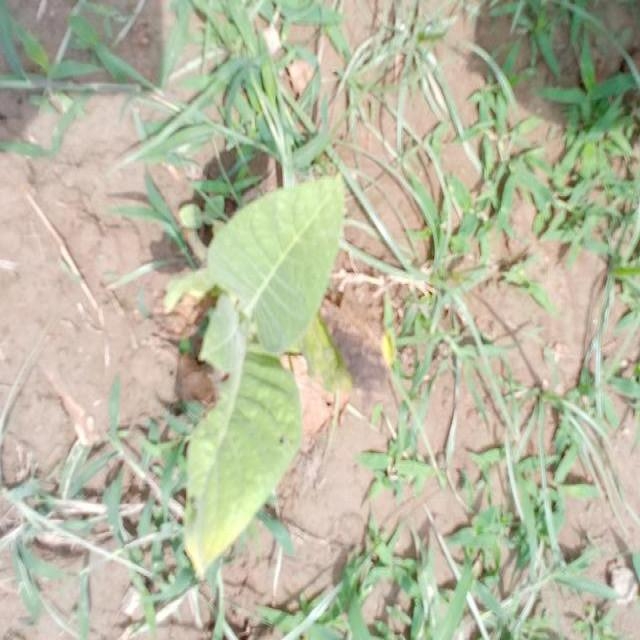crop: (190, 182, 348, 557)
